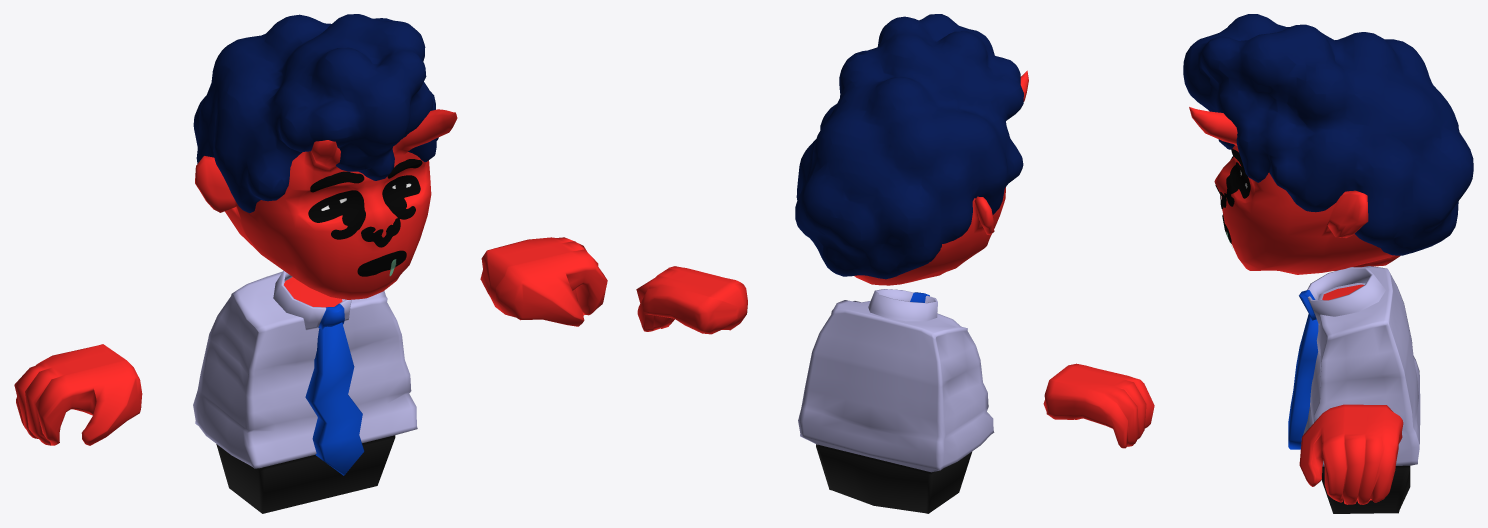
Rendered from Tim.fbx.
3 renders of one model, left to right at view 1: azimuth 30°, elevation 25°; view 2: azimuth 150°, elevation 25°; view 3: azimuth 270°, elevation 25°, orthographic. The views are drawn at different scales.
Visible parts, largest first — view 1: body.001, hair, head, hands.002, hands.001, collar.001, face.001; view 2: hair, body.001, hands.002, hands.001, head, collar.001; view 3: hair, body.001, head, hands.001, collar.001, face.001.
Part boxes in pixels (<box>): body.001: <box>193,271,417,513</box>; hair: <box>193,14,438,213</box>; head: <box>195,109,457,299</box>; hands.002: <box>14,344,142,445</box>; hands.001: <box>480,237,607,326</box>; collar.001: <box>273,270,364,475</box>; face.001: <box>308,159,422,276</box>; hair: <box>795,14,1023,279</box>; body.001: <box>798,300,994,513</box>; hands.002: <box>1043,363,1154,448</box>; hands.001: <box>636,266,747,334</box>; head: <box>854,70,1028,285</box>; collar.001: <box>868,289,937,321</box>; hair: <box>1183,14,1473,255</box>; body.001: <box>1303,266,1420,513</box>; head: <box>1189,107,1395,274</box>; hands.001: <box>1299,404,1403,504</box>; collar.001: <box>1288,267,1385,449</box>; face.001: <box>1215,149,1250,248</box>.
Bounding box in the file's own units: 235 × 194 × 109.
